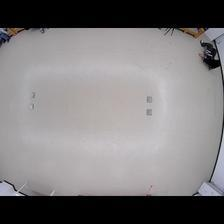fall: (198, 37, 220, 70)
